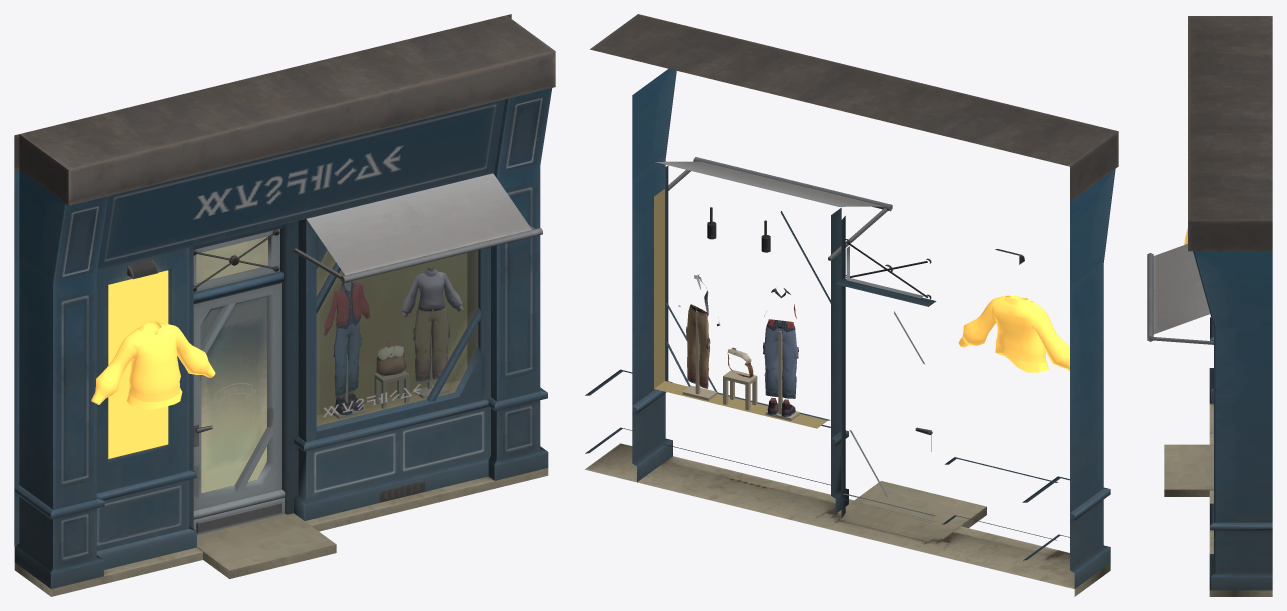
Rendered from t1_b_boutique1_a.glb.
3 renders of one model, left to right at view 1: azimuth 30°, elevation 25°; view 2: azimuth 150°, elevation 25°; view 3: azimuth 270°, elevation 25°, orthographic. The views are drawn at different scales.
Visible parts, largest first — view 1: nomerge_t1_b_boutique1_a_mesh; view 2: nomerge_t1_b_boutique1_a_mesh; view 3: nomerge_t1_b_boutique1_a_mesh.
Boxes of the visible parts, x1,y1,x2,y2 form: nomerge_t1_b_boutique1_a_mesh: (14, 14, 555, 596); nomerge_t1_b_boutique1_a_mesh: (585, 14, 1118, 596); nomerge_t1_b_boutique1_a_mesh: (1147, 16, 1272, 596).
Bounding box in the file's own units: 5.5 × 4.6 × 1.39.
Materials: 4 (3 with a texture image).
